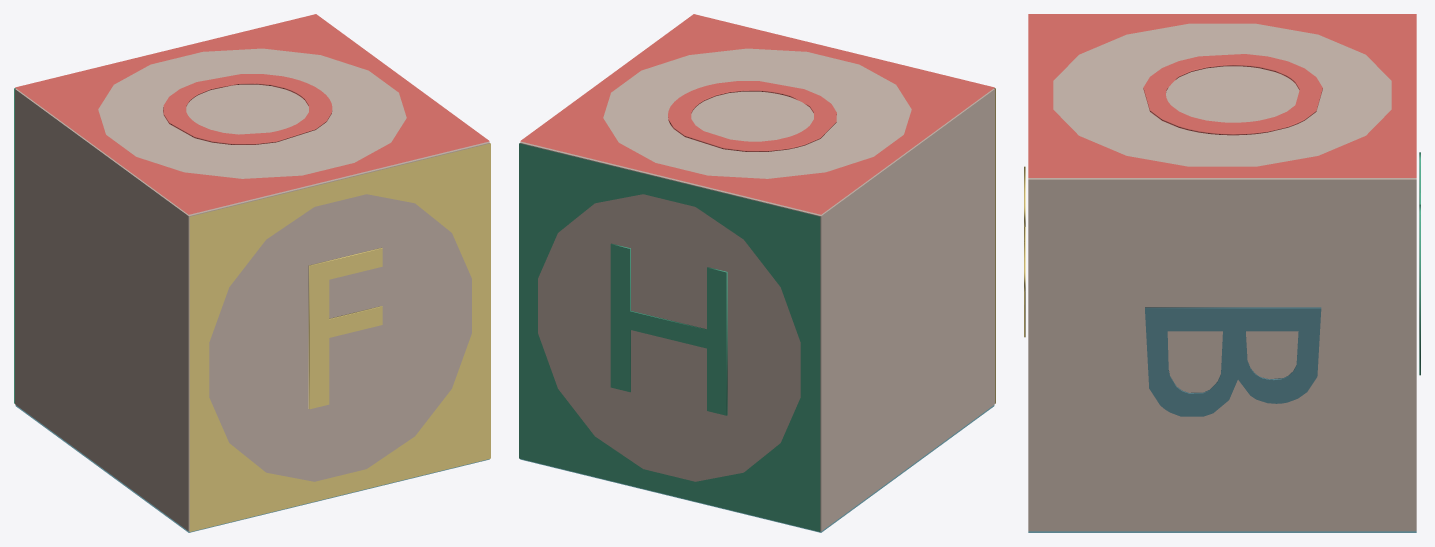
The picture shows the model from 3 angles, left to right: view 1: azimuth 30°, elevation 25°; view 2: azimuth 150°, elevation 25°; view 3: azimuth 270°, elevation 25°; orthographic projection. The views are drawn at different scales.
Visible parts, largest first — view 1: cube; view 2: cube; view 3: cube.
Boxes of the visible parts, bbox=[...] form: cube: bbox=[14, 14, 490, 532]; cube: bbox=[519, 14, 995, 532]; cube: bbox=[1024, 14, 1420, 532].
Size of the model in its own units: 0.0453 by 0.046 by 0.046.
